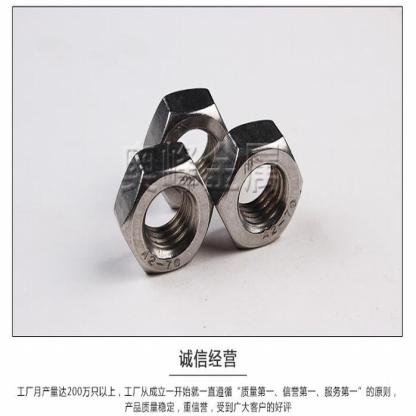FOD: (112, 140, 214, 280), (140, 84, 238, 215), (211, 118, 306, 248)
